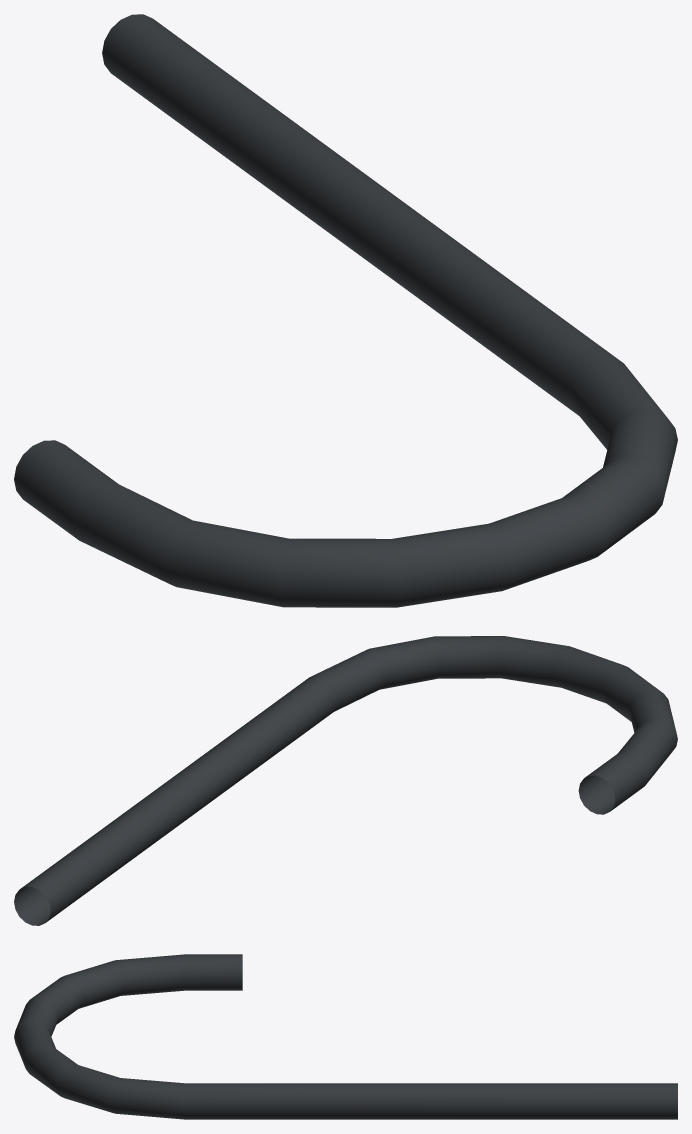
Rendered from Freiburg_x420_y600_ae_h0.obj.
The picture shows the model from 3 angles, top to bottom: view 1: azimuth 30°, elevation 25°; view 2: azimuth 150°, elevation 25°; view 3: azimuth 270°, elevation 25°; orthographic projection. The views are drawn at different scales.
Parts seen in each view (by area): view 1: BezierCurve.001; view 2: BezierCurve.001; view 3: BezierCurve.001.
Boxes of the visible parts, box(x1,y1,x2,y2) form: BezierCurve.001: box(14, 14, 677, 607); BezierCurve.001: box(14, 636, 677, 925); BezierCurve.001: box(14, 954, 677, 1119).
Bounding box in the file's own units: 0.47 × 0.05 × 0.915.
1 material, 1 textured.
